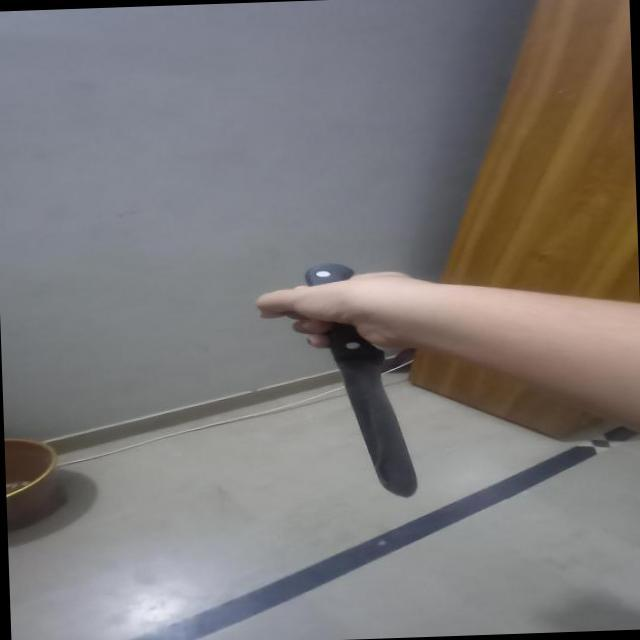Knife: (289, 255, 432, 504)
